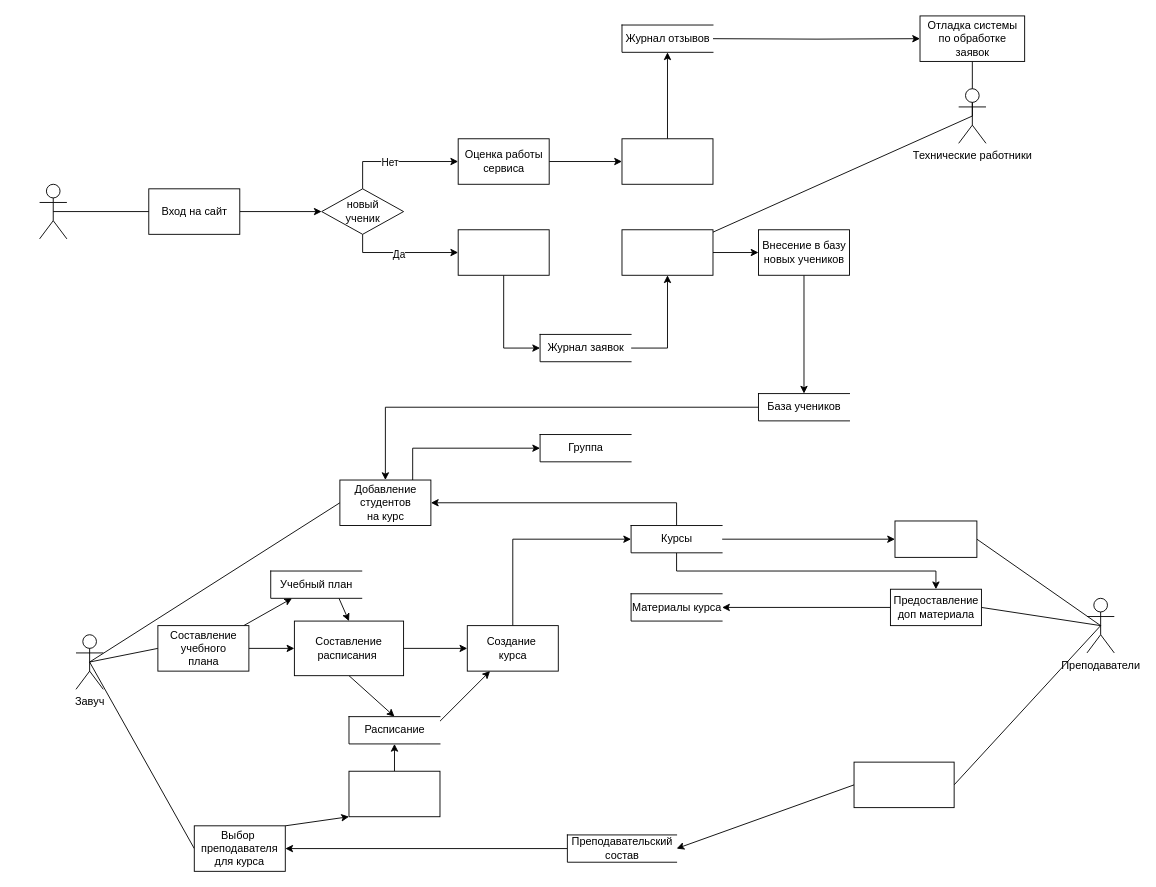
Image size: 1156x887. Some labels were removed from this diagram. Each missing label, with the centre of its shape:
"Доработка сайта на основе отзывов" goes at (667,161).
"Обновление расписания" goes at (394,793).
"Обработка заявок" goes at (667,252).
"Обучающиеся" goes at (53,211).
"Обучение учащихся" goes at (935,538).
"Подача заявки" goes at (503,252).
"Распределение по специальностям" goes at (903,784).
